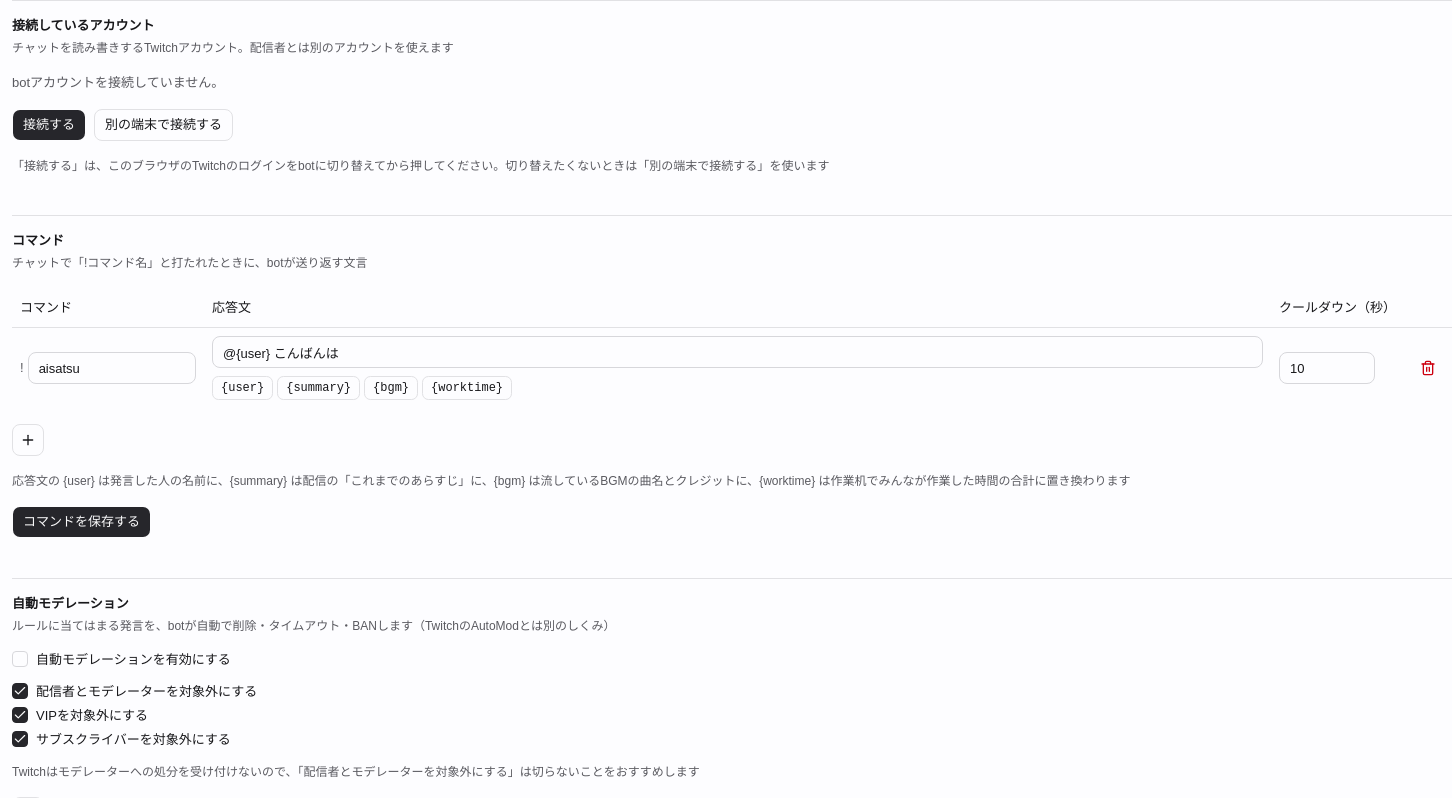
Test case: 別の端末での接続（デバイスコードフロー） › コードと案内先を出す
Click the button "別の端末で接続する" at (164, 125), box [94,109,233,141]
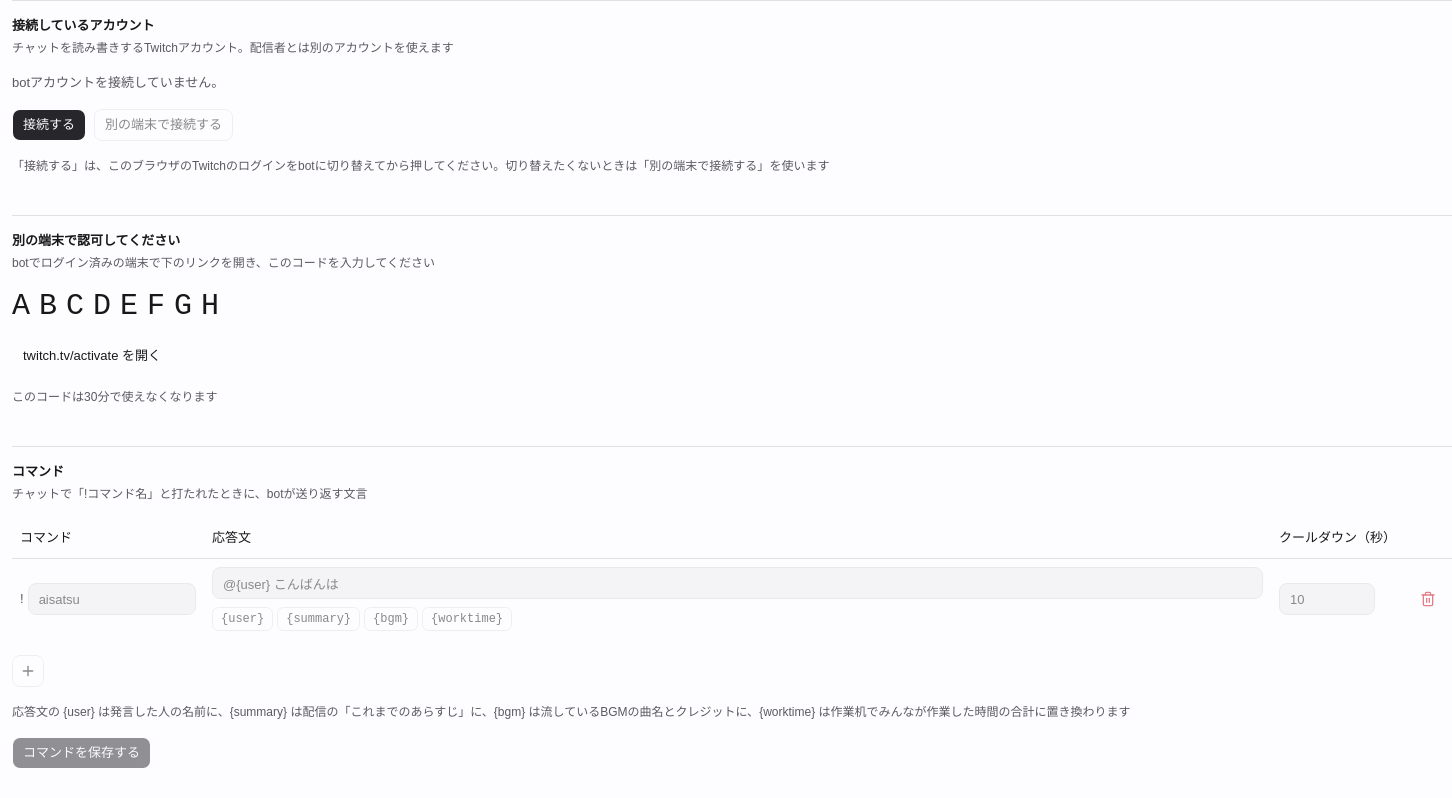
Now the text "ABCDEFGH" is shown, box [12,289,228,323]
